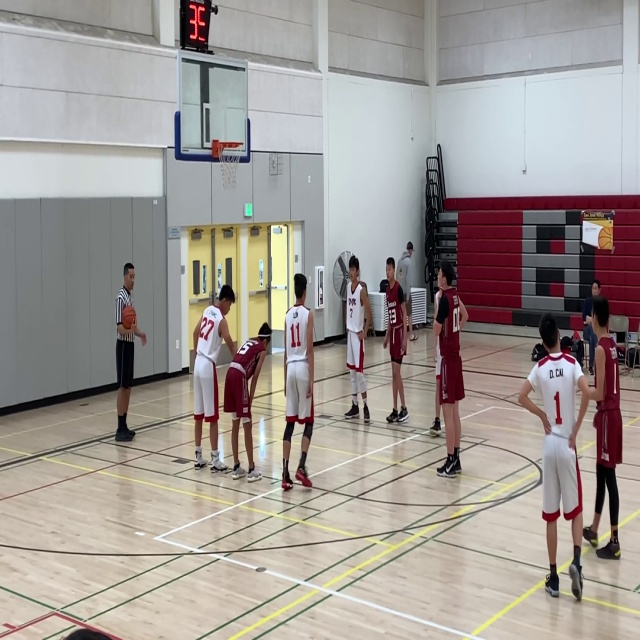Basketball: (121, 306, 136, 329)
